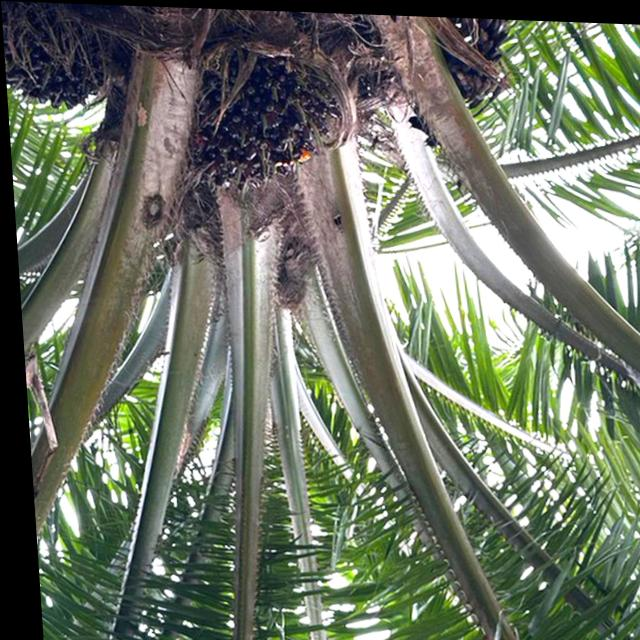almost: (174, 43, 351, 198)
